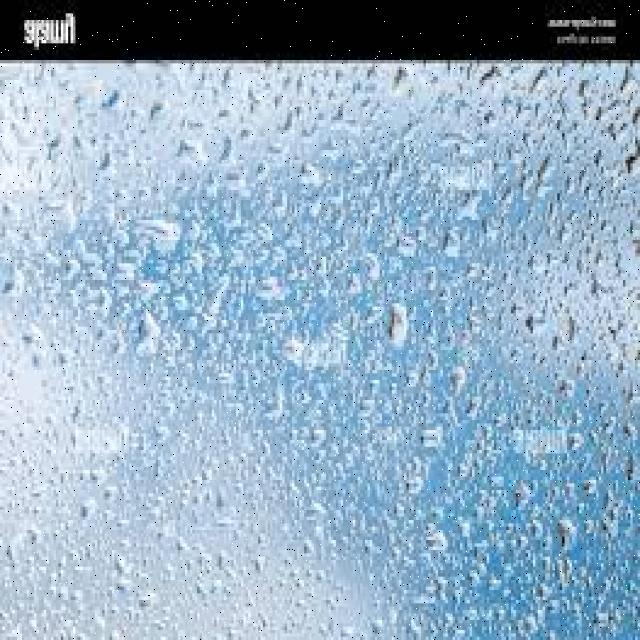raindrop: (128, 217, 190, 255), (200, 264, 233, 324), (177, 123, 217, 172), (599, 490, 632, 548), (553, 508, 584, 562), (218, 125, 246, 178), (98, 81, 134, 122), (132, 307, 163, 354), (418, 520, 454, 560), (448, 357, 477, 403), (251, 270, 286, 308), (387, 298, 410, 352), (386, 68, 416, 106), (457, 190, 487, 228), (302, 496, 334, 530), (511, 475, 539, 513), (443, 222, 468, 264), (279, 327, 304, 368), (479, 65, 512, 96), (526, 306, 550, 342), (394, 234, 420, 264), (422, 261, 439, 299)
